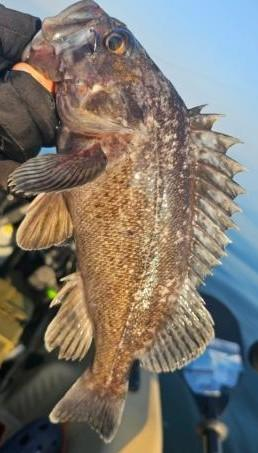fish: (6, 0, 245, 443)
